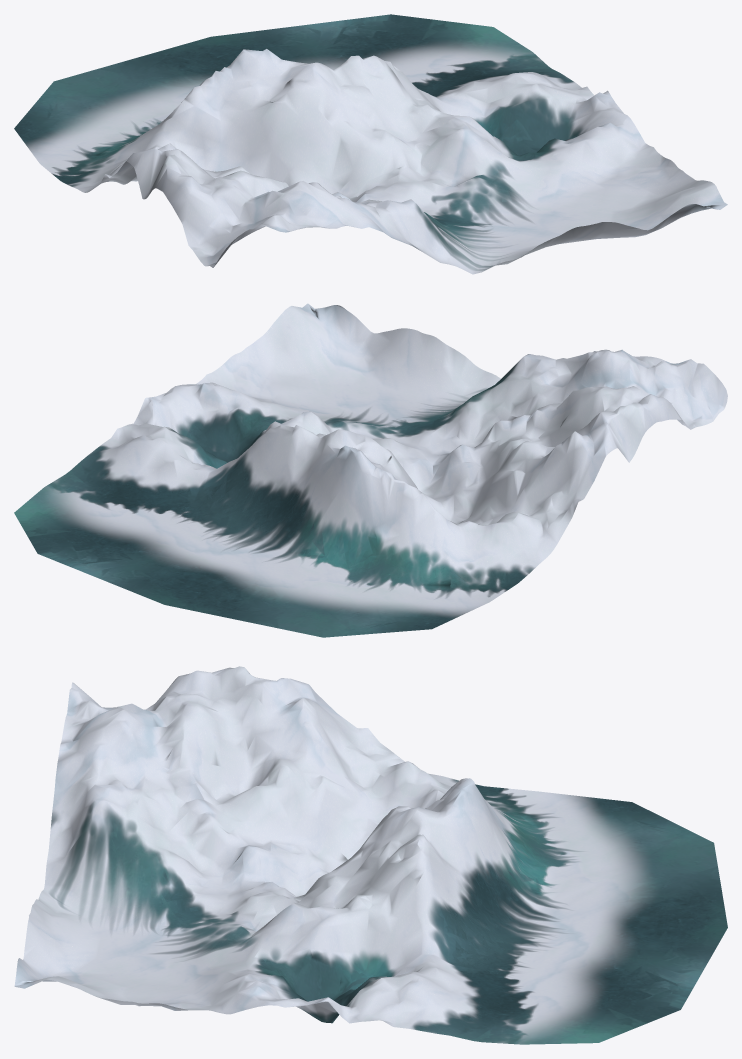
The model's file is IceArena_TerrainUnder.fbx.
3 views of the same model, one above another, from view 1: azimuth 30°, elevation 25°; view 2: azimuth 150°, elevation 25°; view 3: azimuth 270°, elevation 25° (orthographic). The views are drawn at different scales.
Visible parts, largest first — view 1: TerrainUnder; view 2: TerrainUnder; view 3: TerrainUnder.
Boxes of the visible parts, x1,y1,x2,y2 form: TerrainUnder: (14, 14, 727, 274); TerrainUnder: (14, 303, 727, 637); TerrainUnder: (14, 666, 727, 1044).
Size of the model in its own units: 90120 by 21024 by 99806.
1 material, 1 textured.
